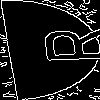R: (24, 25, 100, 65)
